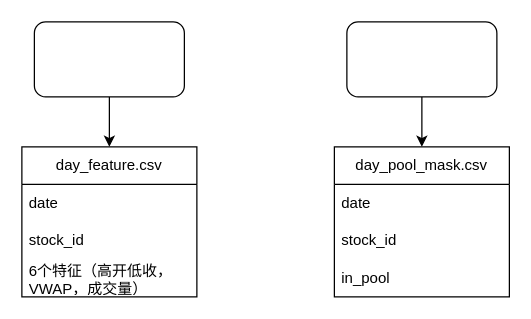
This 531x319 diagram has some shape labels left out. The shapes that lost their labels are listed below. From the top down, each one's box as (x1, y1, x2, y2) in pixels, then its label:
(33, 21, 184, 97): 个股日行情（Basic.daily）
(346, 21, 497, 97): 股票池数据（Pool.basic)
